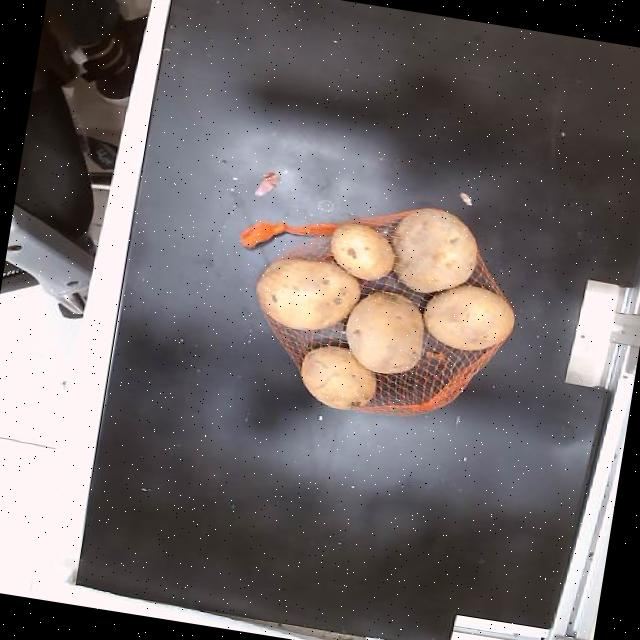potato: (257, 258, 360, 329), (393, 209, 477, 292), (345, 292, 423, 373), (423, 284, 514, 350), (303, 346, 376, 409), (330, 223, 394, 280)
